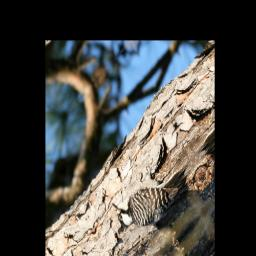Woodpecker: (110, 135, 196, 251)
